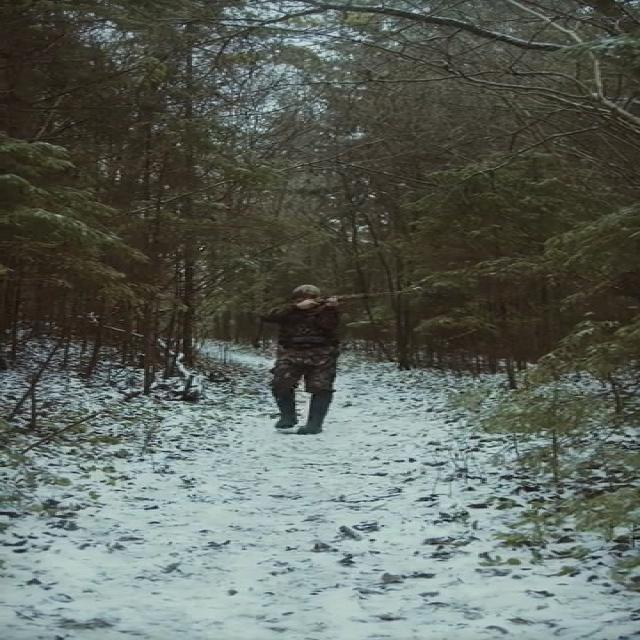Gun_Holder: (305, 290, 425, 310)
Person: (252, 282, 348, 434)
